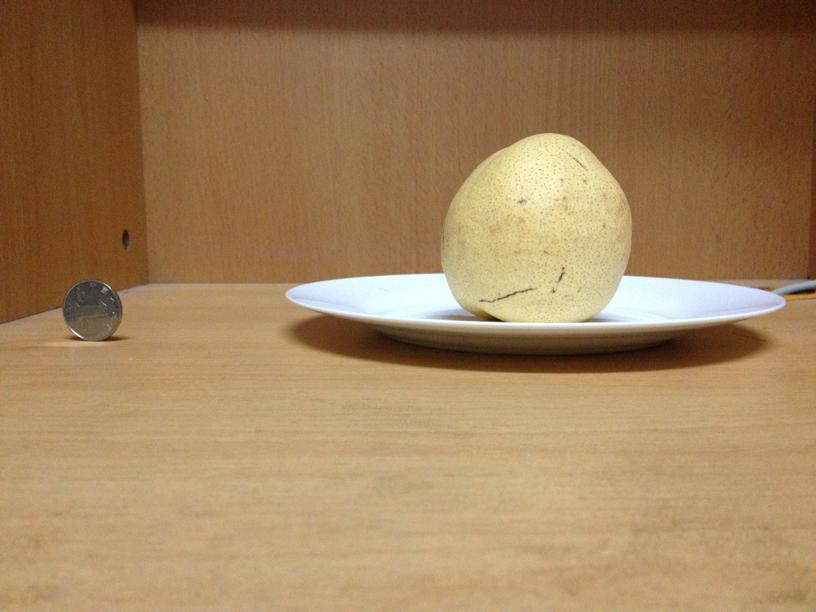coin: (58, 278, 122, 341)
pear: (440, 130, 636, 323)
